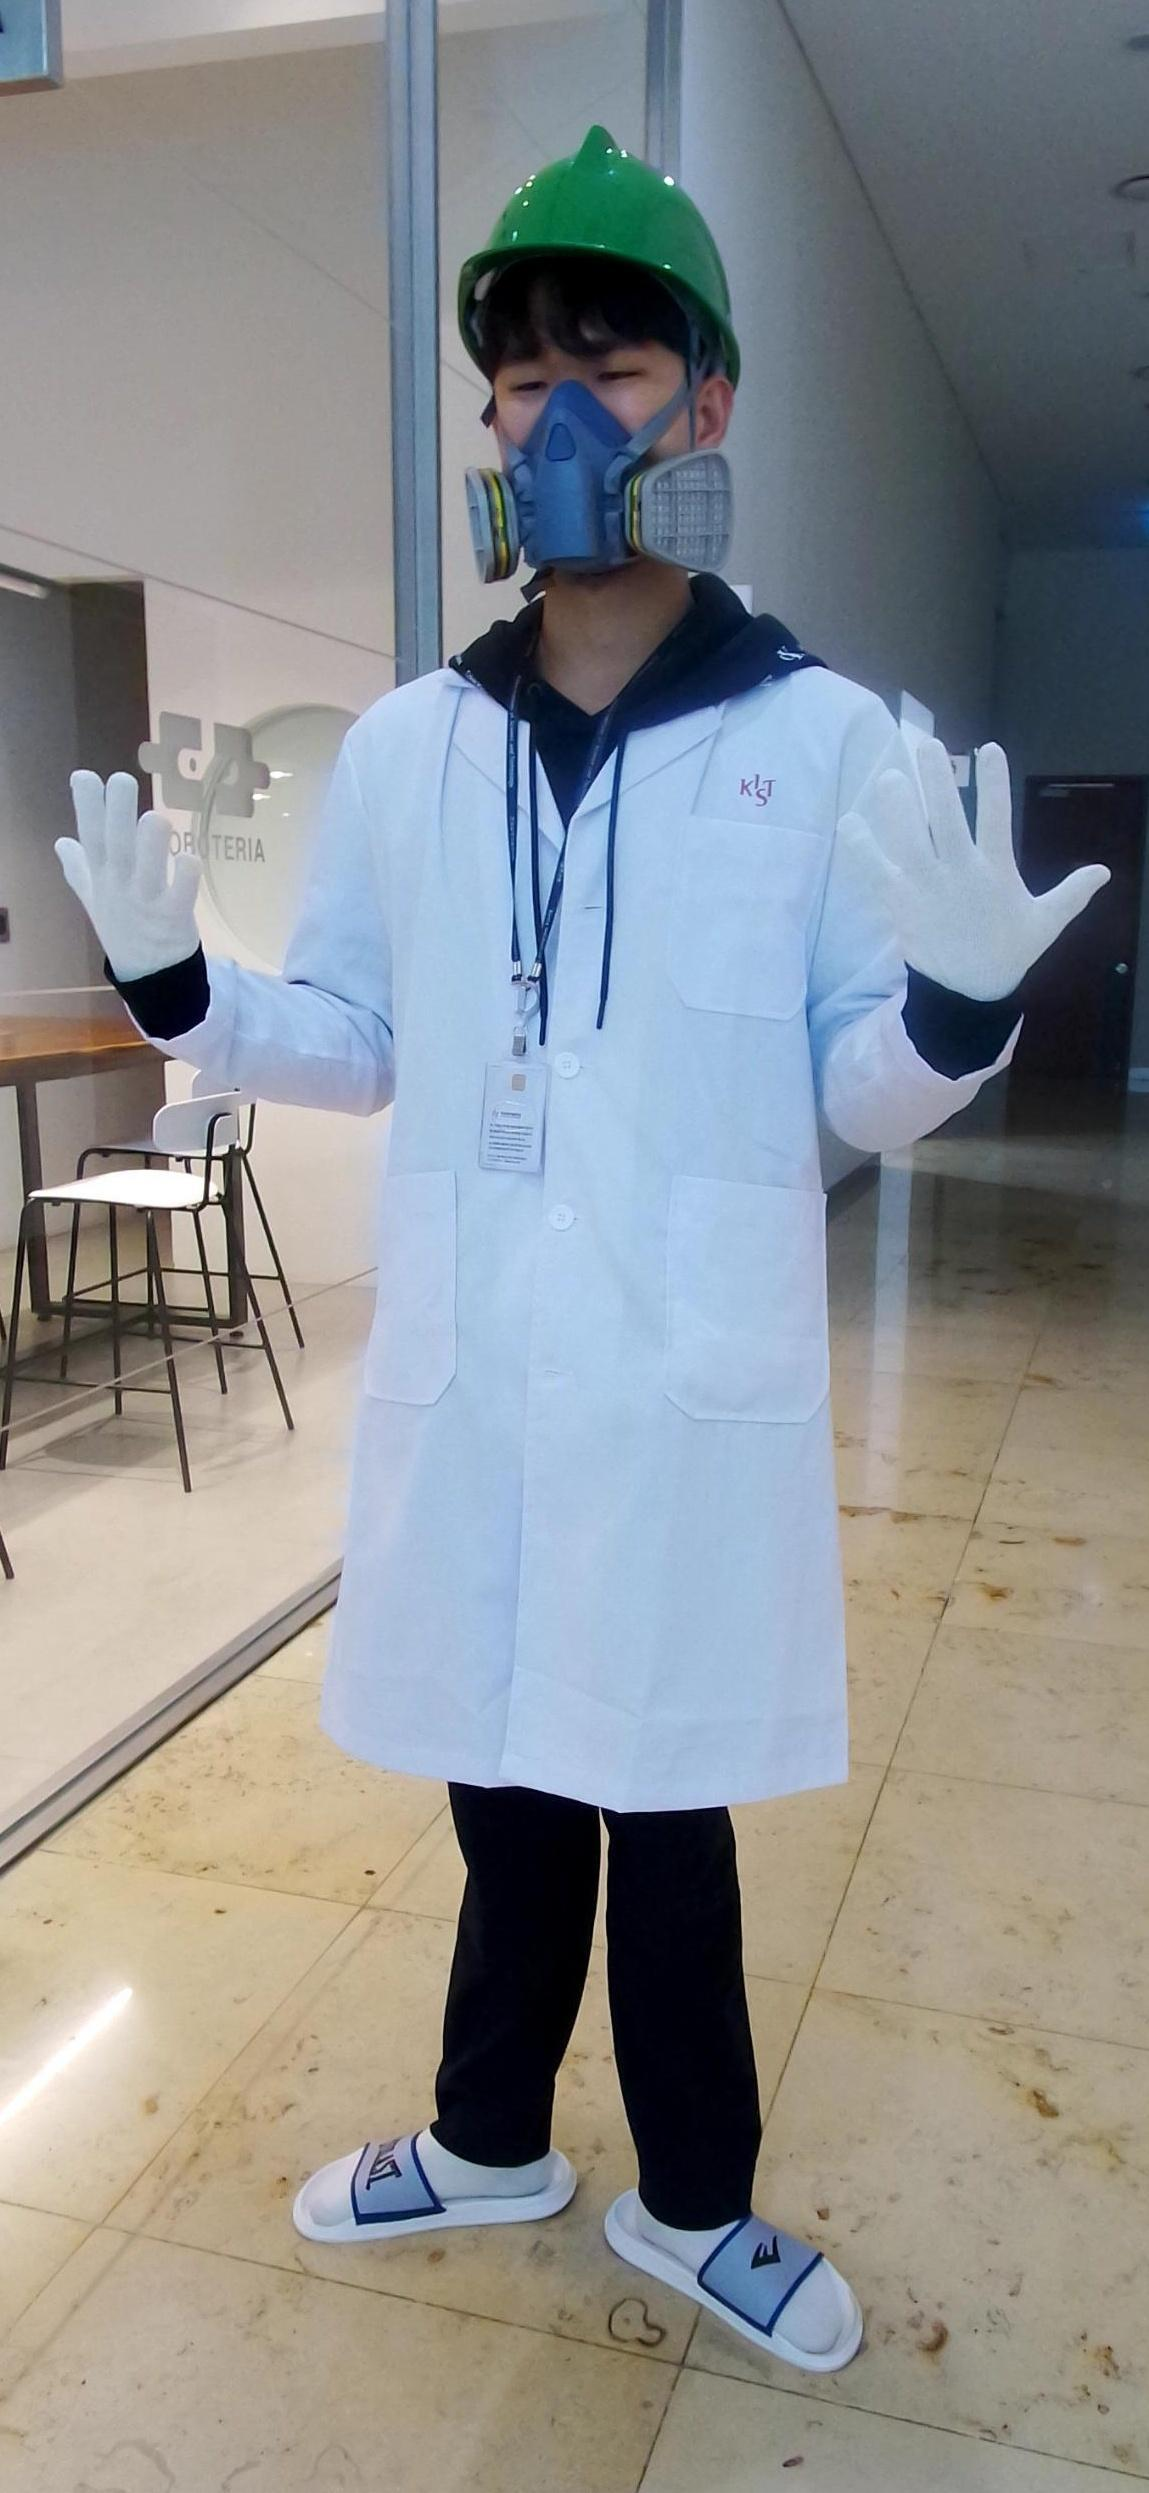lab_coat: (321, 696, 857, 1805)
